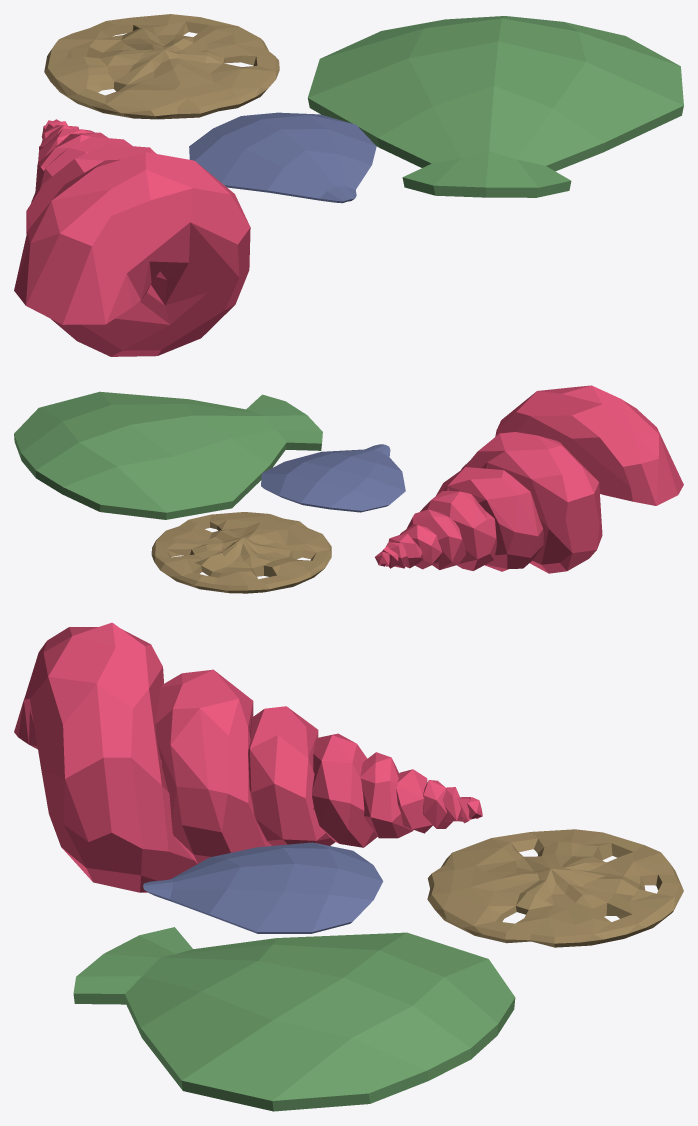
Rendered from Shells.fbx.
3 renders of one model, top to bottom at view 1: azimuth 30°, elevation 25°; view 2: azimuth 150°, elevation 25°; view 3: azimuth 270°, elevation 25°, orthographic. The views are drawn at different scales.
Parts seen in each view (by area): view 1: FanShell, SpiralShell, SandDollar, SmallFanShell; view 2: SpiralShell, FanShell, SandDollar, SmallFanShell; view 3: SpiralShell, FanShell, SandDollar, SmallFanShell.
Boxes of the visible parts, <box> form: FanShell: <box>308,16,683,197</box>; SpiralShell: <box>14,119,250,356</box>; SandDollar: <box>44,14,279,119</box>; SmallFanShell: <box>189,112,376,203</box>; SpiralShell: <box>375,385,683,573</box>; FanShell: <box>14,391,322,519</box>; SandDollar: <box>151,512,331,593</box>; SmallFanShell: <box>261,444,405,512</box>; SpiralShell: <box>14,622,482,892</box>; FanShell: <box>73,927,515,1111</box>; SandDollar: <box>427,829,683,947</box>; SmallFanShell: <box>143,842,383,933</box>.
Size of the model in its own units: 60.6 by 16.49 by 42.89.
